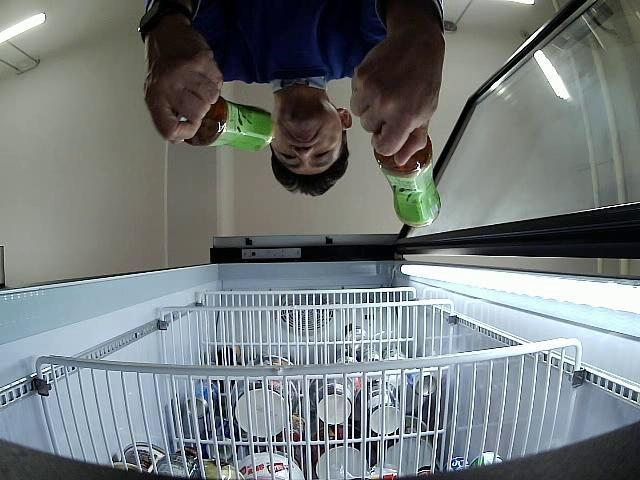19_17cha: (372, 126, 442, 228), (185, 96, 275, 150)
